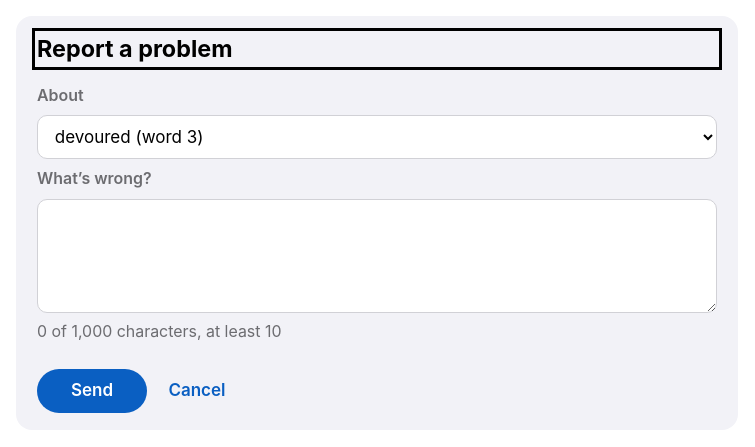
Test: FlagForm › sends a word’s flag and thanks the reader
The width and height of the screenshot is (755, 447).
Expected: the dropdown labelled "About" shows "devoured (word 3)", [37, 115, 717, 159]
Step 1. Type "  devour needs an object here  " into the text box labelled "What’s wrong?" → (377, 256), box [37, 199, 717, 313]
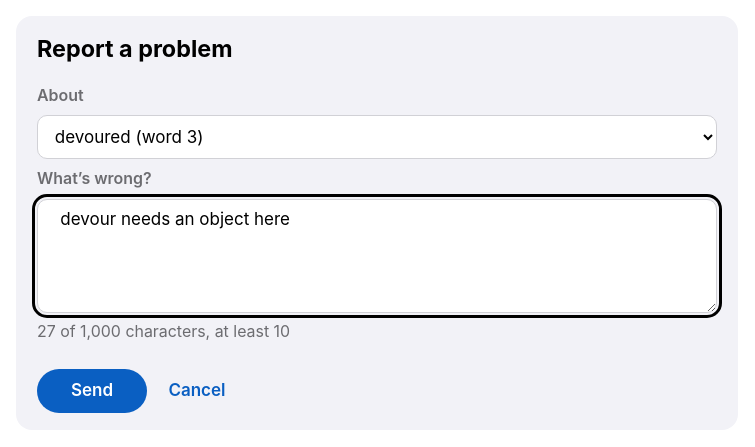
Step 2. Click the button "Send" → (92, 391), box [37, 369, 147, 413]
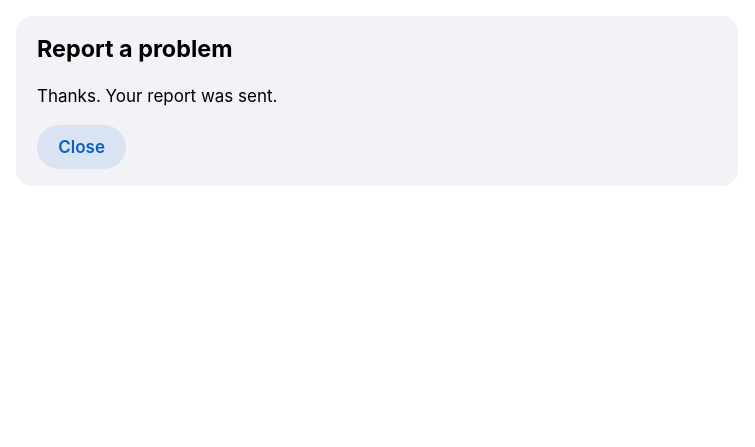
Expected: the message reads "Thanks. Your report was sent.", [37, 86, 278, 106]
